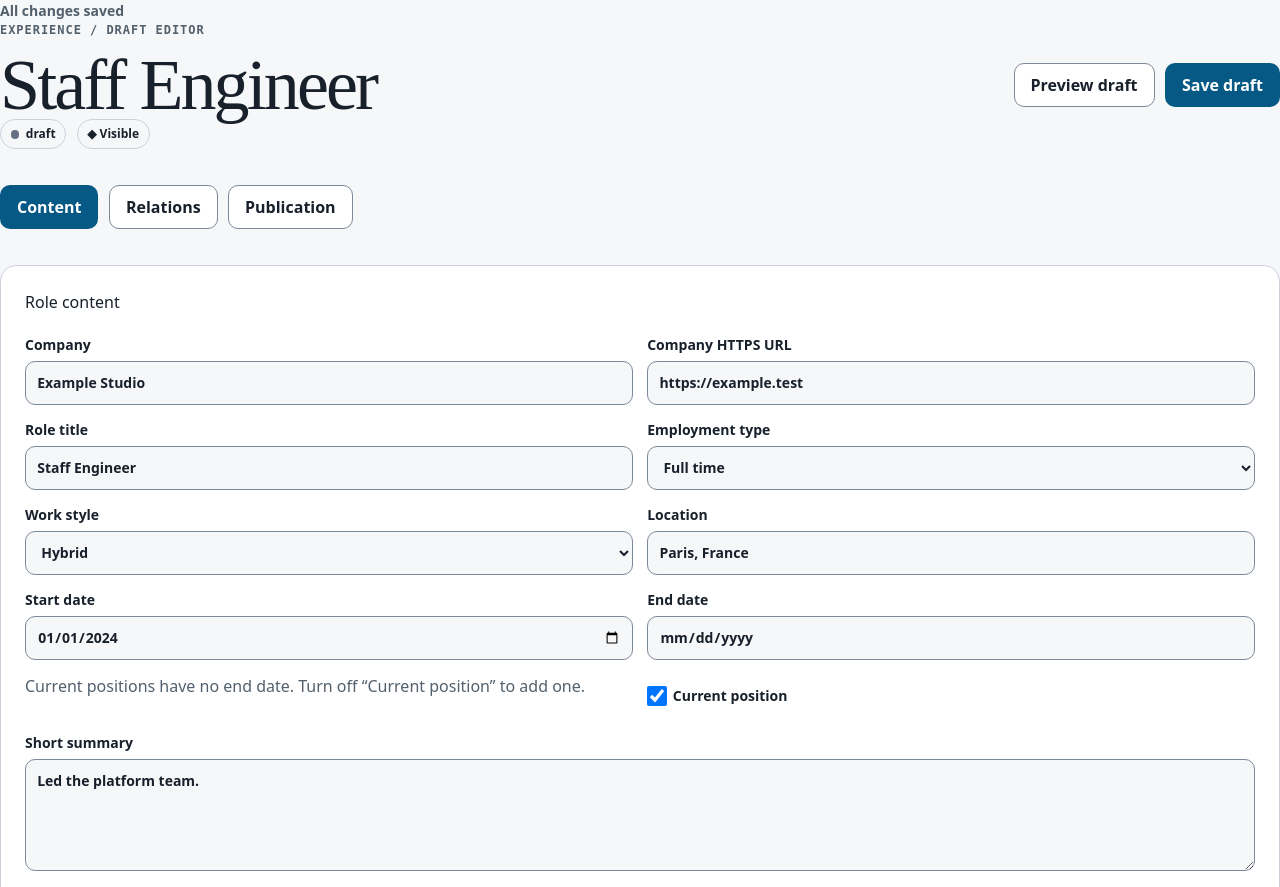
experience editor › focuses linked local validation without discarding input
Clear the field labelled "Company". click: (329,383)
box: [25,361,633,405]
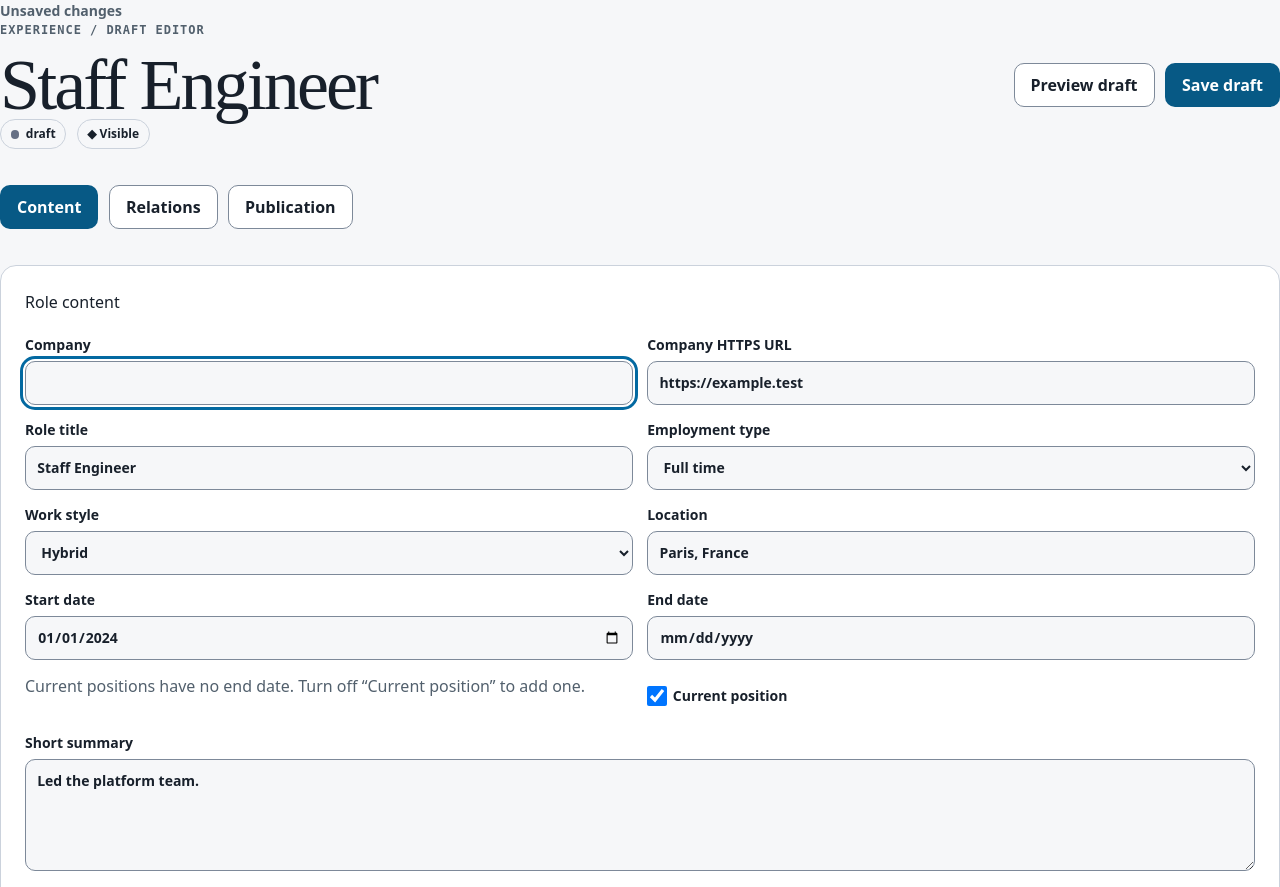
Click the button "Save draft". click: (1222,85)
box: [1165,63,1279,107]
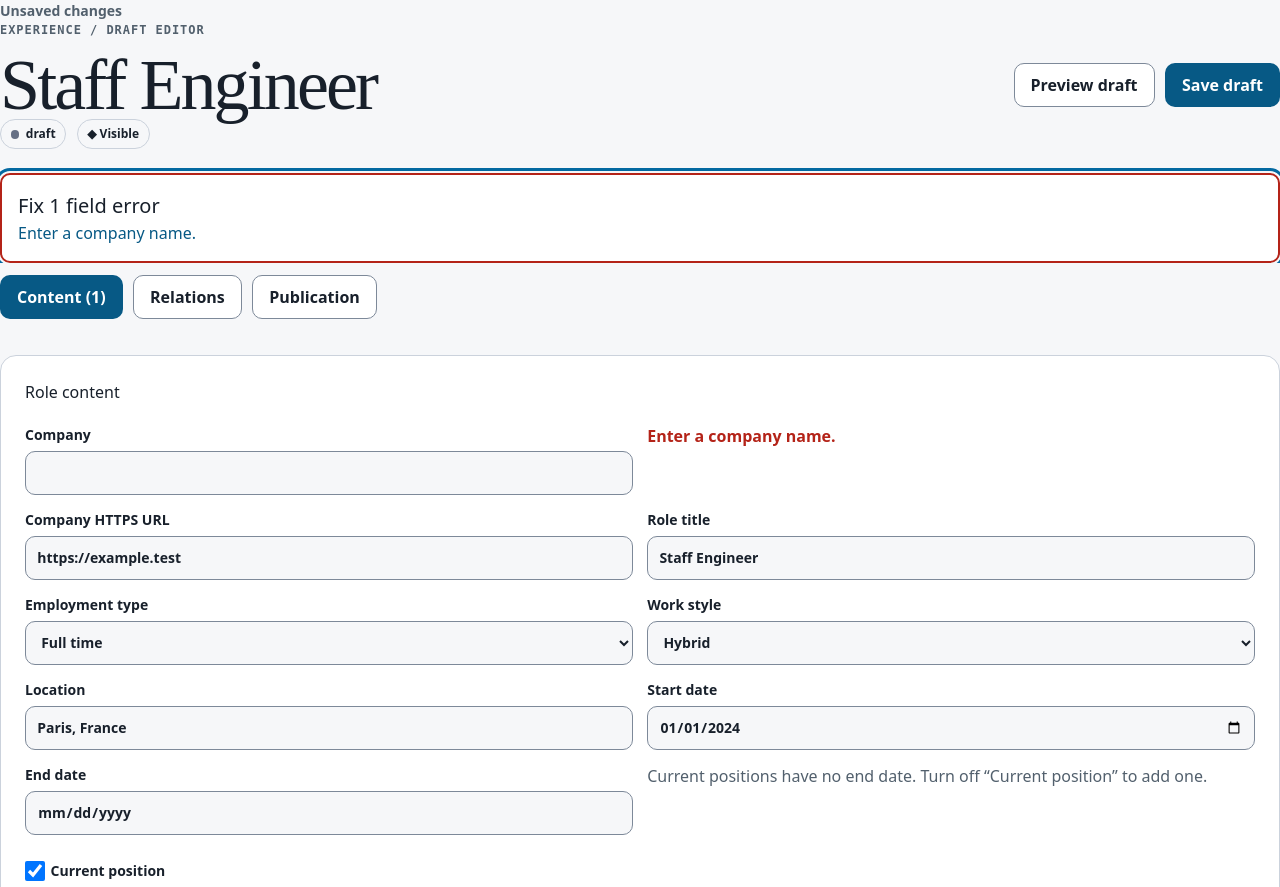
Check: the message "Fix 1 field error Enter a company name." is shown, box [0,173,1279,263]
